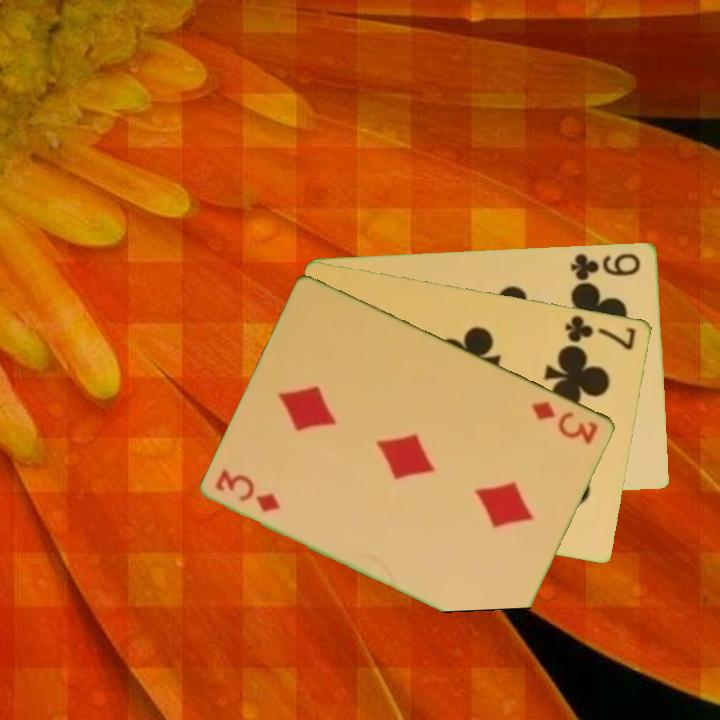3d: (528, 397, 602, 448), (212, 466, 284, 515)
7c: (562, 311, 639, 353)
9c: (567, 249, 644, 282)
